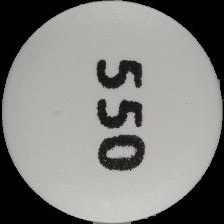0228-2550: (0, 0, 224, 224)
